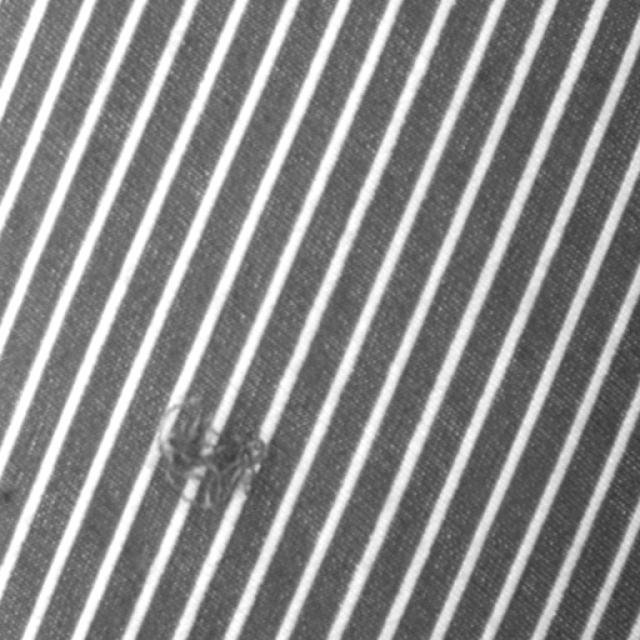Foreign-Body-Defect: (158, 396, 278, 509)
